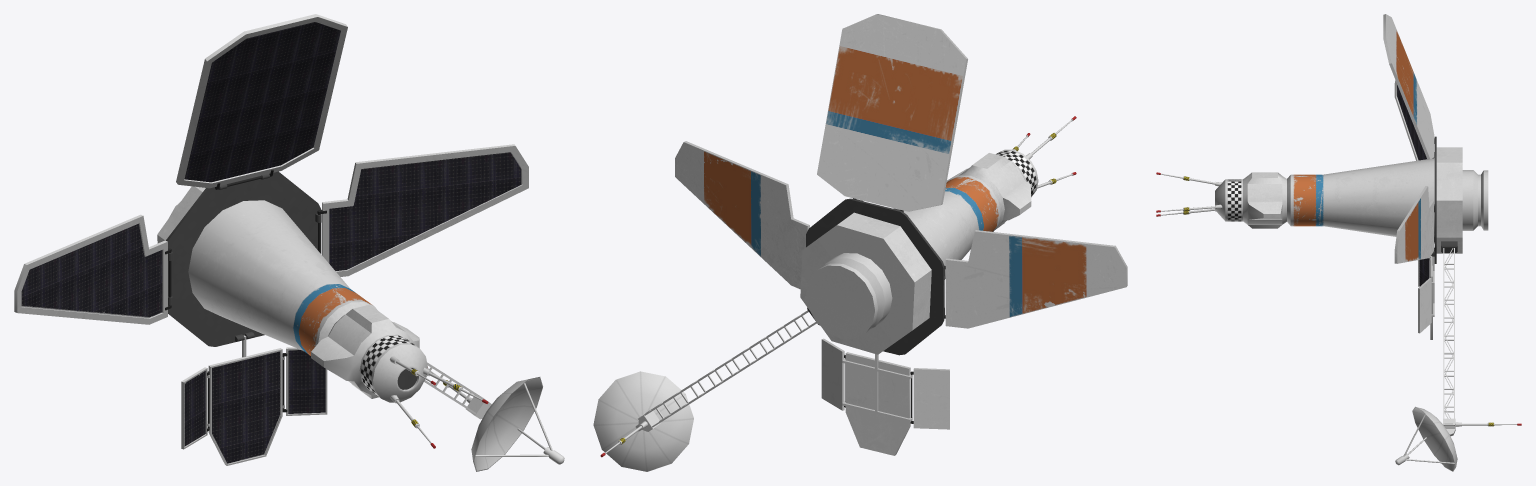
Rendered from 13888_Space_Beacon_large_v1_L1.obj.
3 views of the same model, side by side, from view 1: azimuth 30°, elevation 25°; view 2: azimuth 150°, elevation 25°; view 3: azimuth 270°, elevation 25° (orthographic). The views are drawn at different scales.
Parts seen in each view (by area): view 1: 13888_Space_Beacon_large_Solar_Array, 13888_Space_Beacon_large_Hull; view 2: 13888_Space_Beacon_large_Solar_Array, 13888_Space_Beacon_large_Hull; view 3: 13888_Space_Beacon_large_Hull, 13888_Space_Beacon_large_Solar_Array.
Part boxes in pixels (x1,y1,x2,y2): 13888_Space_Beacon_large_Solar_Array: [14, 14, 528, 465]; 13888_Space_Beacon_large_Hull: [157, 171, 564, 471]; 13888_Space_Beacon_large_Solar_Array: [675, 14, 1127, 455]; 13888_Space_Beacon_large_Hull: [593, 116, 1076, 471]; 13888_Space_Beacon_large_Hull: [1156, 136, 1521, 471]; 13888_Space_Beacon_large_Solar_Array: [1383, 14, 1434, 339].
Bounding box in the file's own units: 1014 × 928 × 854.
2 materials, 2 textured.
